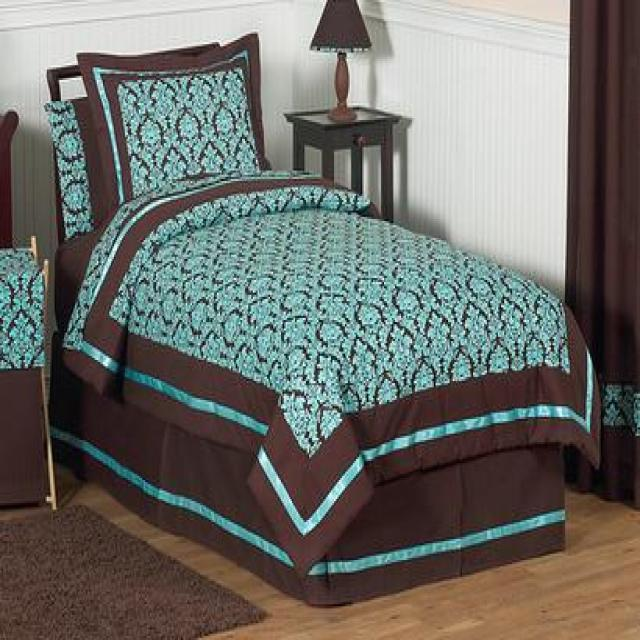bed: (44, 32, 601, 606)
table: (282, 103, 400, 221)
